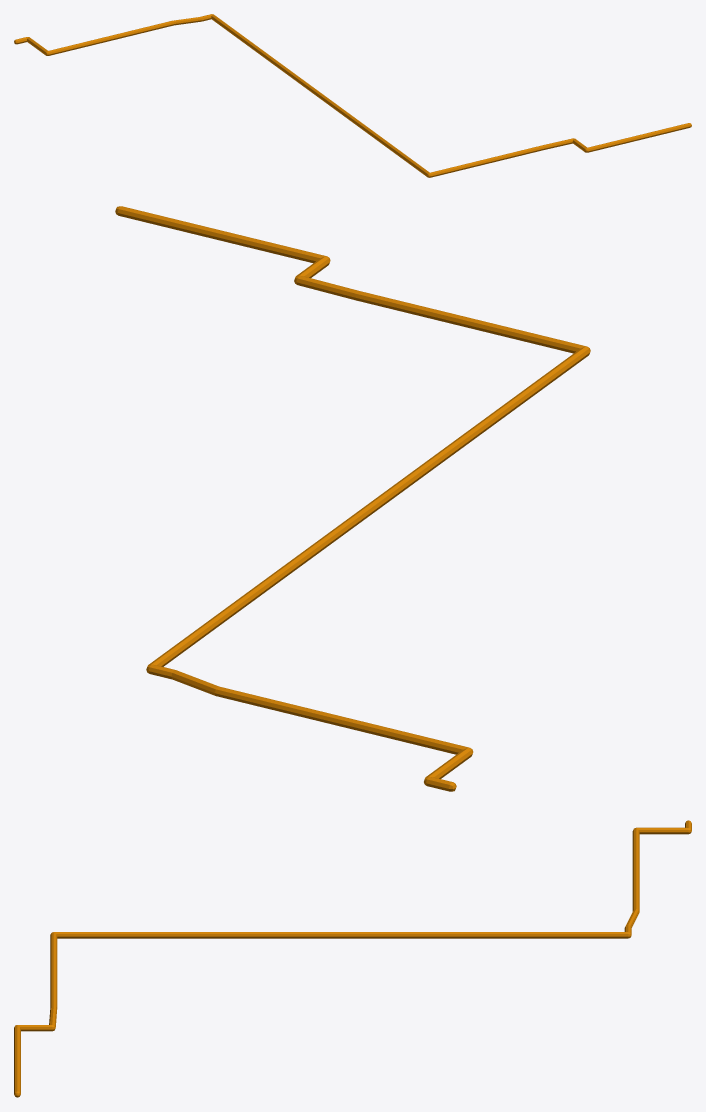
The picture shows the model from 3 angles, top to bottom: view 1: azimuth 30°, elevation 25°; view 2: azimuth 150°, elevation 25°; view 3: azimuth 270°, elevation 25°; orthographic projection. The views are drawn at different scales.
Size of the model in its own units: 1859 by 20 by 1947.
